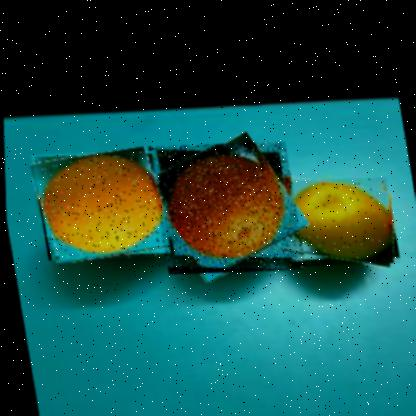orange: (146, 124, 305, 282), (28, 137, 170, 270), (273, 159, 400, 270)
